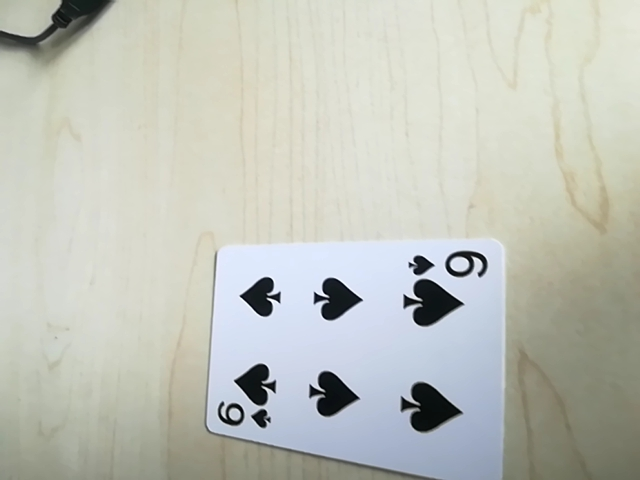ht 6: (407, 245, 495, 281), (211, 404, 273, 433)
